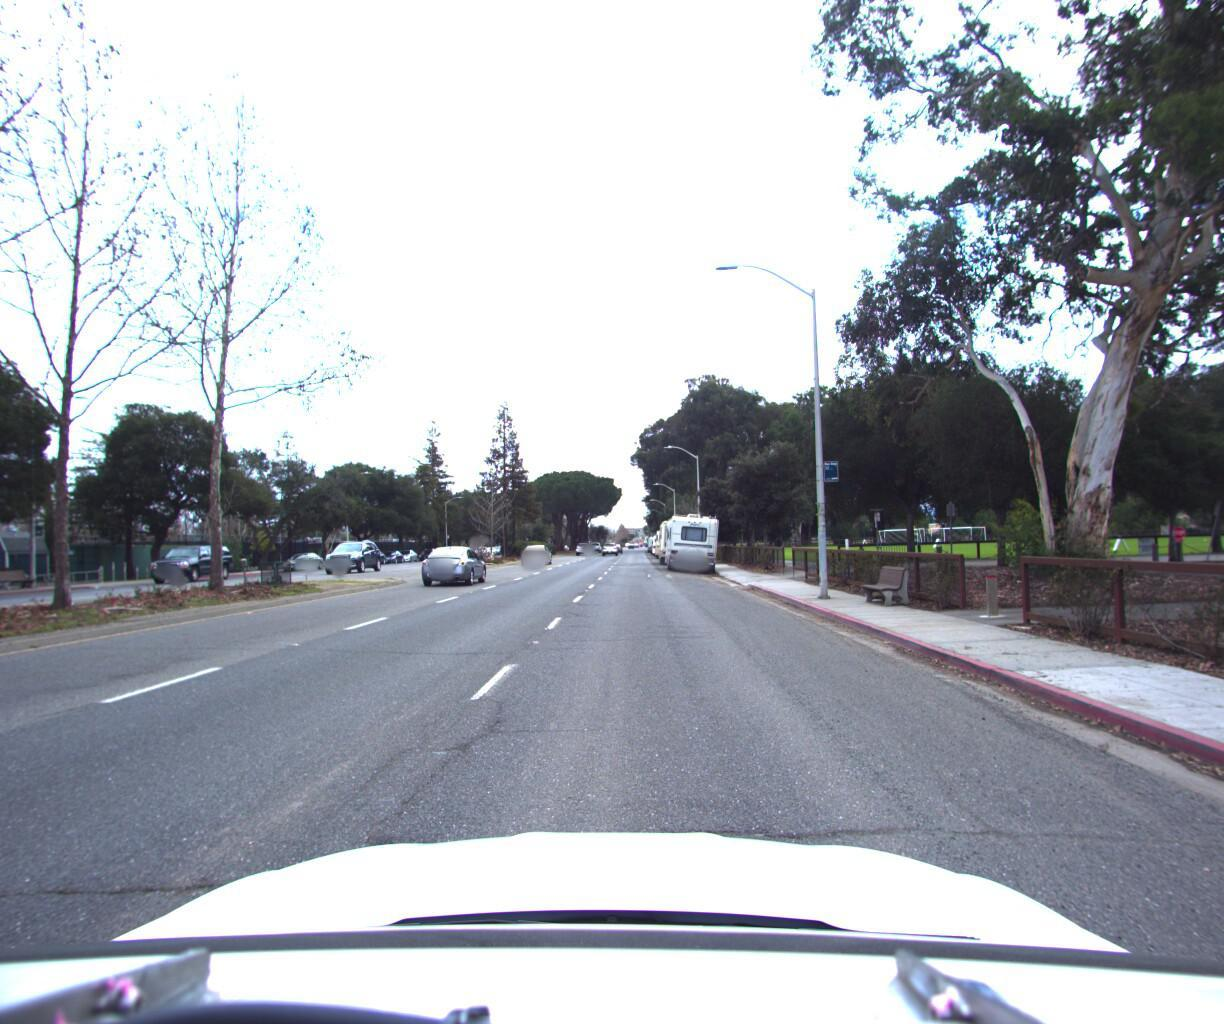car: (146, 539, 235, 580), (418, 538, 488, 580), (320, 532, 384, 569), (278, 545, 328, 566), (521, 537, 552, 558)
other_vehicle: (661, 505, 721, 566), (656, 508, 697, 559), (652, 521, 681, 551)
